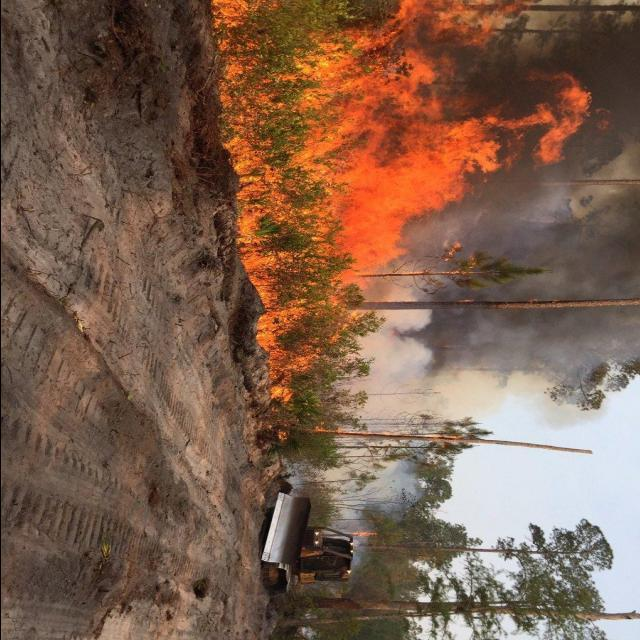Fire: (212, 8, 590, 400)
